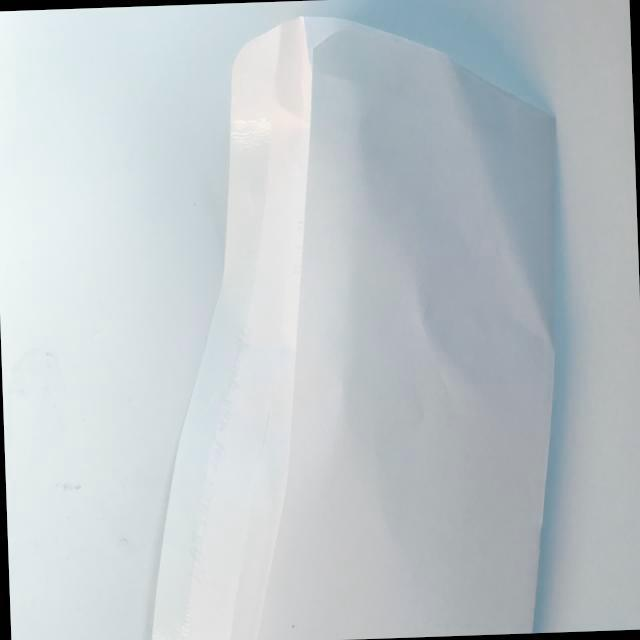paper: (106, 0, 586, 640)
